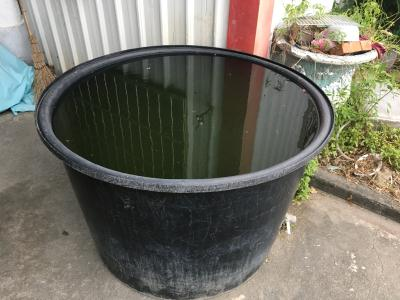bucket: (33, 43, 336, 298)
